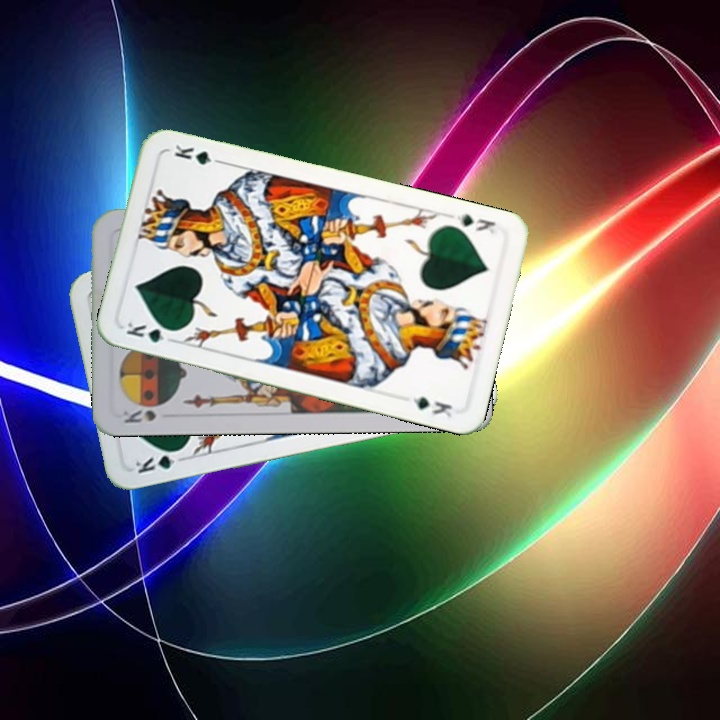GK: (130, 445, 189, 476), (122, 316, 180, 346), (453, 210, 499, 237)
SK: (119, 405, 159, 425)
